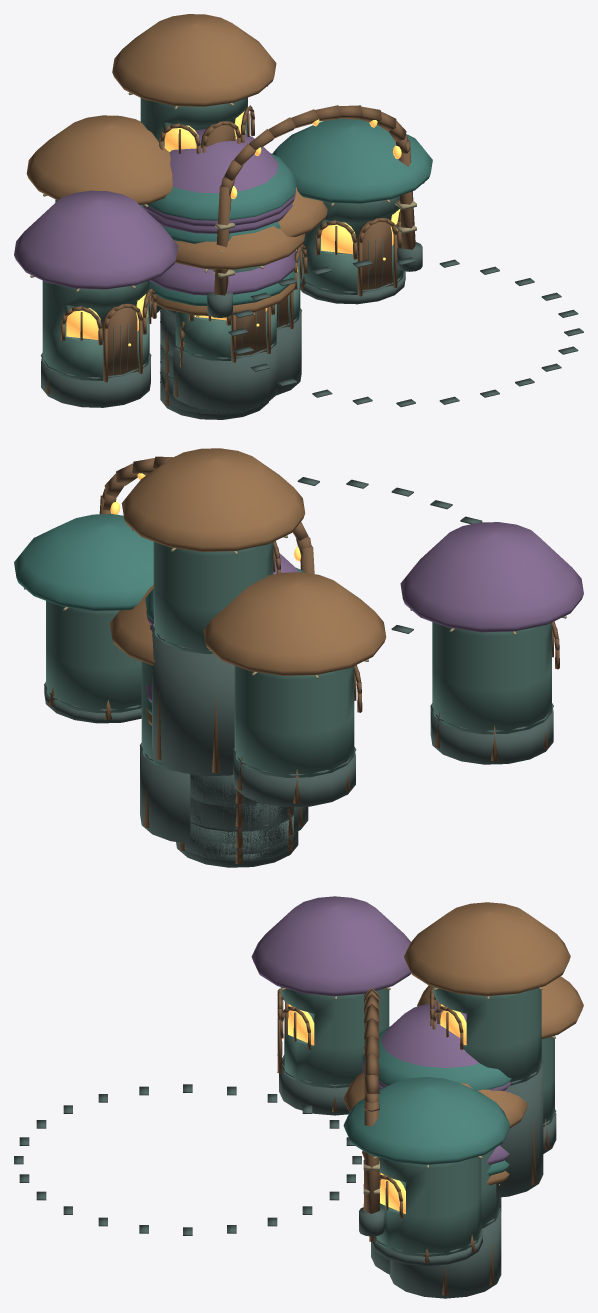
File: world12-mushroom-architecture-v2.glb
The picture shows the model from 3 angles, top to bottom: view 1: azimuth 30°, elevation 25°; view 2: azimuth 150°, elevation 25°; view 3: azimuth 270°, elevation 25°; orthographic projection. The views are drawn at different scales.
Parts seen in each view (by area): view 1: W12_Cottage_02-cap-lilac, W12_Cottage_04-cap-wood, W12_Cottage_01-cap-wood, W12_Cottage_00-cap-teal, W12_Cottage_02-wall, W12_Cottage_10-stone, W12_Cottage_11-cap-lilac, W12_Memory_Garden_Shrine-wood, W12_Cottage_00-wall, W12_Cottage_03-cap-teal, W12_Memory_Garden_Shrine-stone, W12_Cottage_02-wood (+22 smaller); view 2: W12_Cottage_02-cap-lilac, W12_Cottage_04-cap-wood, W12_Cottage_01-cap-wood, W12_Cottage_01-wall, W12_Cottage_02-wall, W12_Cottage_00-cap-teal, W12_Cottage_04-stone, W12_Cottage_04-wall, W12_Cottage_00-wall, W12_Cottage_02-stone, W12_Cottage_01-stone, W12_Cottage_07-stone (+14 smaller); view 3: W12_Cottage_02-cap-lilac, W12_Cottage_04-cap-wood, W12_Cottage_00-cap-teal, W12_Cottage_00-wall, W12_Cottage_02-wall, W12_Cottage_04-wall, W12_Cottage_07-stone, W12_Cottage_11-cap-lilac, W12_Cottage_04-stone, W12_Memory_Garden_Shrine-stone, W12_Memory_Garden_Shrine-wood, W12_Cottage_03-cap-teal (+11 smaller).
Boxes of the visible parts, x1=… form: W12_Cottage_02-cap-lilac: x1=14, y1=190, x2=177, y2=289; W12_Cottage_04-cap-wood: x1=112, y1=14, x2=276, y2=106; W12_Cottage_01-cap-wood: x1=26, y1=115, x2=172, y2=204; W12_Cottage_00-cap-teal: x1=272, y1=118, x2=432, y2=203; W12_Cottage_02-wall: x1=42, y1=280, x2=149, y2=380; W12_Cottage_10-stone: x1=173, y1=311, x2=277, y2=410; W12_Cottage_11-cap-lilac: x1=143, y1=128, x2=295, y2=226; W12_Memory_Garden_Shrine-wood: x1=214, y1=105, x2=415, y2=295; W12_Cottage_00-wall: x1=300, y1=196, x2=403, y2=294; W12_Cottage_03-cap-teal: x1=147, y1=153, x2=296, y2=220; W12_Memory_Garden_Shrine-stone: x1=207, y1=242, x2=583, y2=407; W12_Cottage_02-wood: x1=46, y1=288, x2=156, y2=393; W12_Cottage_02-cap-lilac: x1=400, y1=522, x2=583, y2=632; W12_Cottage_04-cap-wood: x1=121, y1=448, x2=305, y2=551; W12_Cottage_01-cap-wood: x1=203, y1=572, x2=386, y2=675; W12_Cottage_01-wall: x1=234, y1=665, x2=354, y2=777; W12_Cottage_02-wall: x1=432, y1=622, x2=551, y2=734; W12_Cottage_00-cap-teal: x1=14, y1=514, x2=153, y2=610; W12_Cottage_04-stone: x1=151, y1=623, x2=234, y2=776; W12_Cottage_04-wall: x1=153, y1=542, x2=273, y2=653; W12_Cottage_00-wall: x1=46, y1=601, x2=141, y2=713; W12_Cottage_02-stone: x1=430, y1=703, x2=553, y2=764; W12_Cottage_01-stone: x1=232, y1=747, x2=356, y2=807; W12_Cottage_07-stone: x1=139, y1=743, x2=190, y2=843; W12_Cottage_02-cap-lilac: x1=251, y1=896, x2=410, y2=996; W12_Cottage_04-cap-wood: x1=404, y1=902, x2=570, y2=996; W12_Cottage_00-cap-teal: x1=343, y1=1077, x2=510, y2=1164; W12_Cottage_00-wall: x1=376, y1=1157, x2=481, y2=1256; W12_Cottage_02-wall: x1=280, y1=987, x2=389, y2=1088; W12_Cottage_04-wall: x1=433, y1=987, x2=541, y2=1085; W12_Cottage_07-stone: x1=389, y1=1207, x2=501, y2=1298; W12_Cottage_11-cap-lilac: x1=362, y1=1002, x2=510, y2=1090; W12_Cottage_04-stone: x1=496, y1=1060, x2=543, y2=1197; W12_Memory_Garden_Shrine-stone: x1=14, y1=1084, x2=384, y2=1236; W12_Memory_Garden_Shrine-wood: x1=363, y1=987, x2=379, y2=1213; W12_Cottage_03-cap-teal: x1=362, y1=1027, x2=511, y2=1090.
Size of the model in its own units: 14.61 by 10.81 by 15.5.
